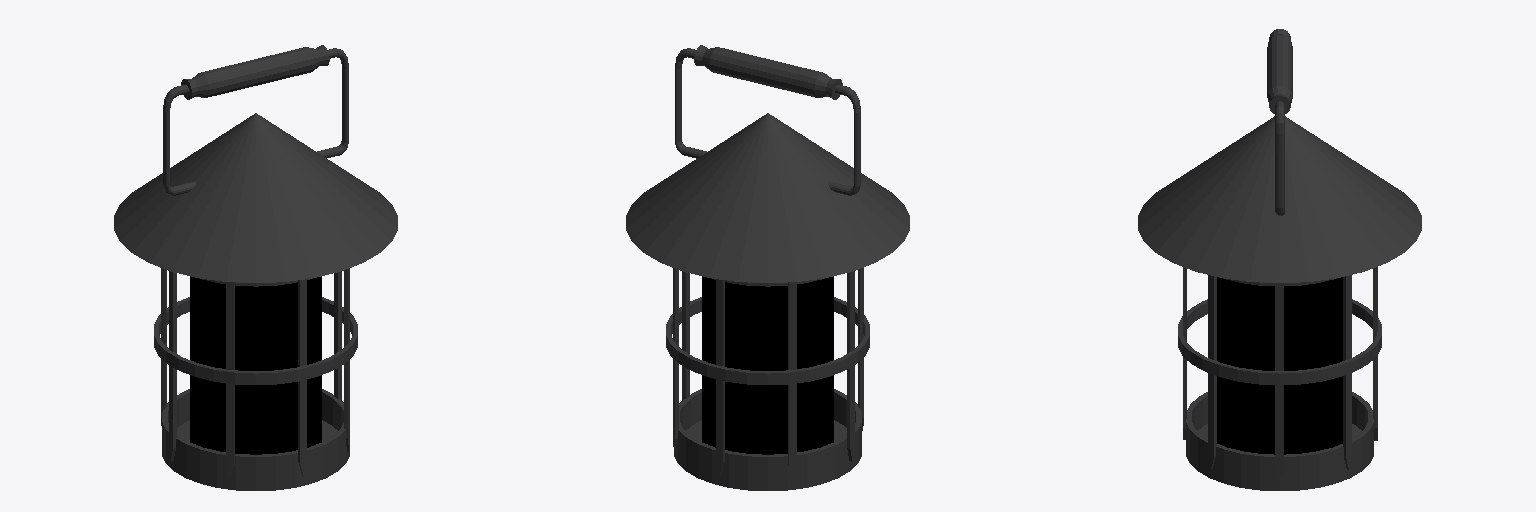
File: 4(lamp_with_holder_up).obj
3 views of the same model, side by side, from view 1: azimuth 30°, elevation 25°; view 2: azimuth 150°, elevation 25°; view 3: azimuth 270°, elevation 25° (orthographic).
Visible parts, largest first — view 1: Object006; view 2: Object006; view 3: Object006.
Part boxes in pixels (left/top/right/bottom): Object006: left=114, top=45, right=397, bottom=490; Object006: left=626, top=45, right=909, bottom=490; Object006: left=1138, top=29, right=1421, bottom=490.
Size of the model in its own units: 18.6 by 28.02 by 18.5.